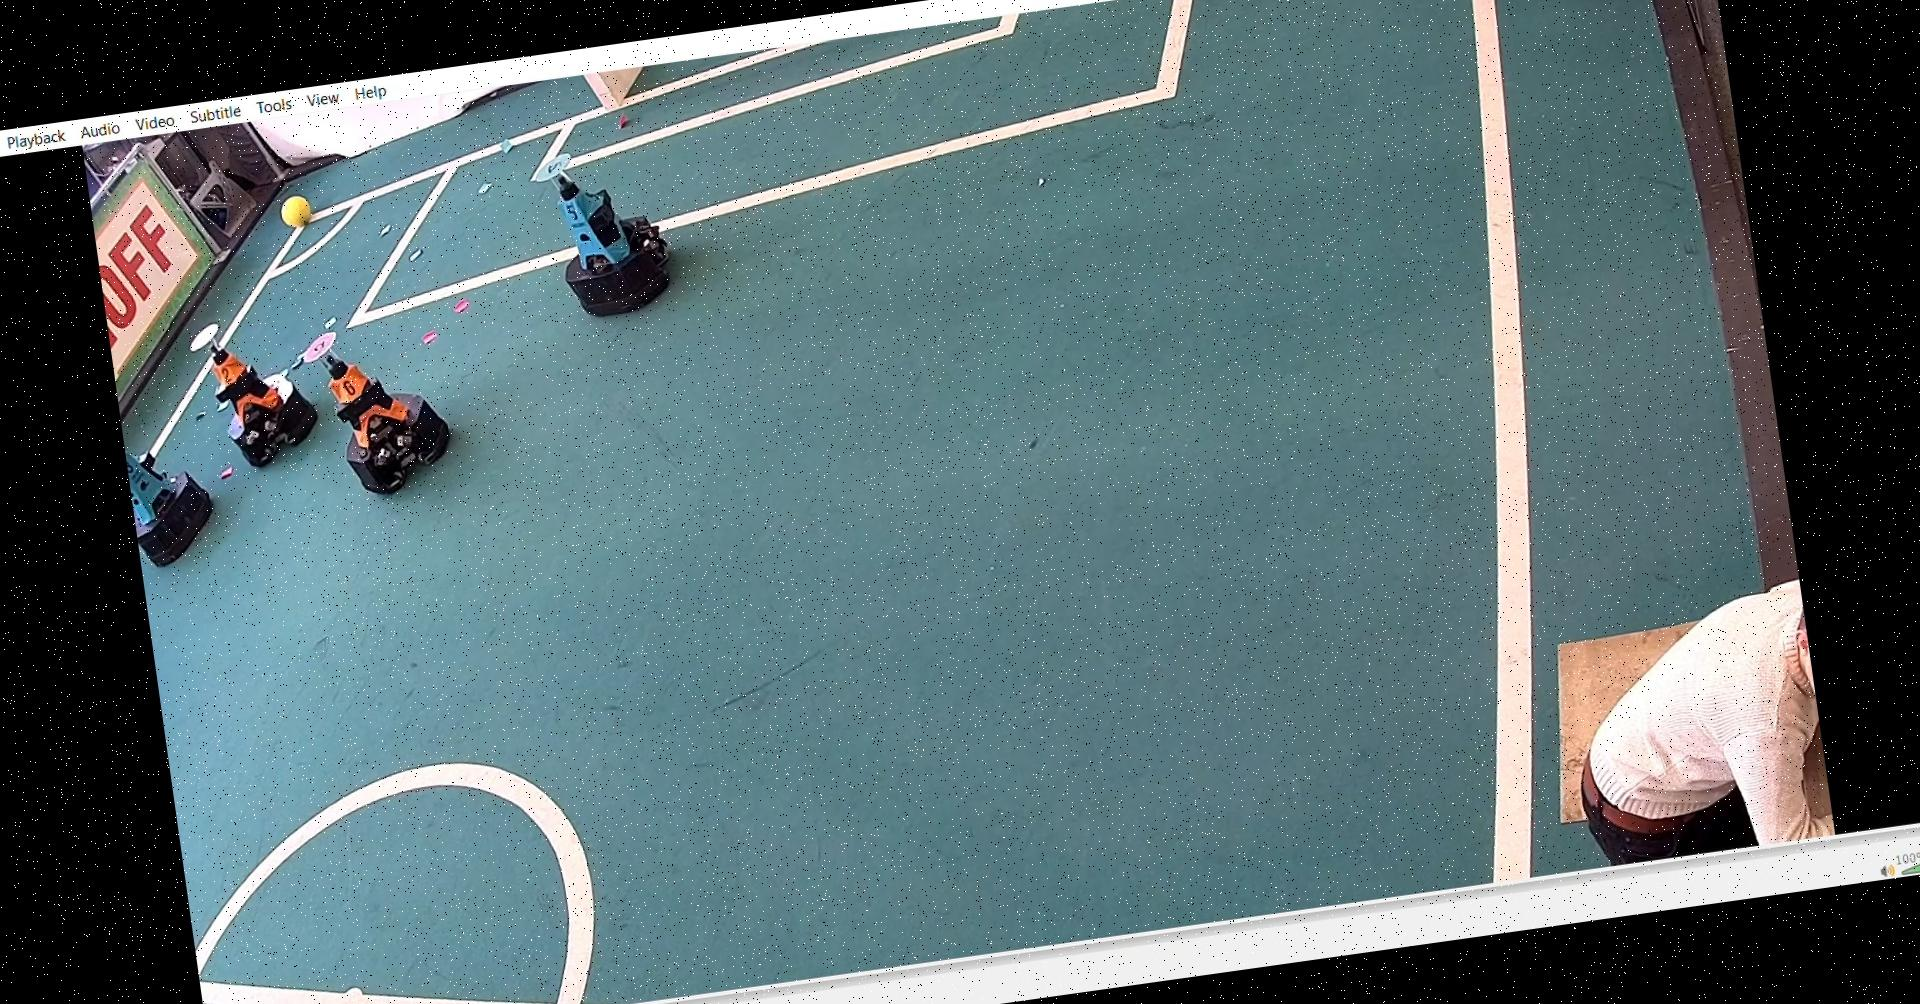Ball: (284, 190, 324, 227)
Team_Blue: (527, 127, 692, 327), (119, 420, 230, 566)
Team_Red: (300, 308, 458, 498), (180, 310, 325, 481)
